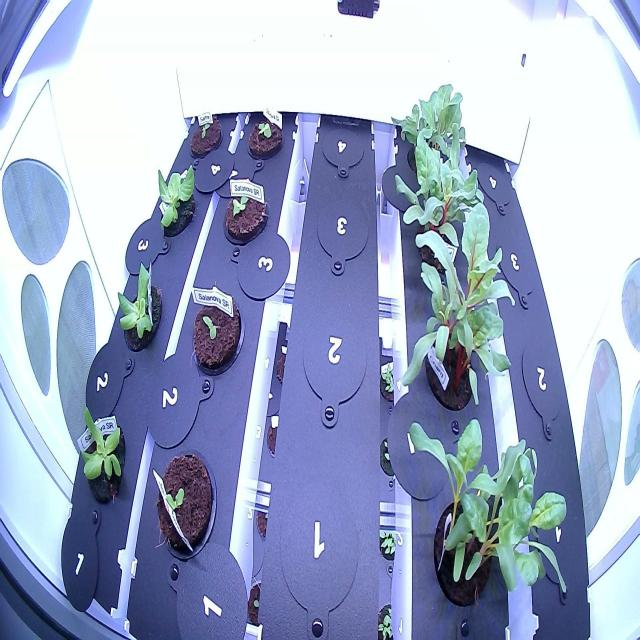empty_pod: (272, 458, 368, 622), (293, 292, 376, 437), (304, 175, 376, 282), (514, 332, 578, 444), (529, 480, 586, 590), (314, 107, 371, 187), (492, 232, 545, 309), (470, 140, 519, 223)
germination: (151, 436, 222, 568), (186, 281, 248, 385), (182, 106, 225, 161)
young: (72, 400, 132, 510), (113, 252, 166, 358), (218, 171, 274, 256), (149, 156, 203, 242), (244, 104, 288, 166)
